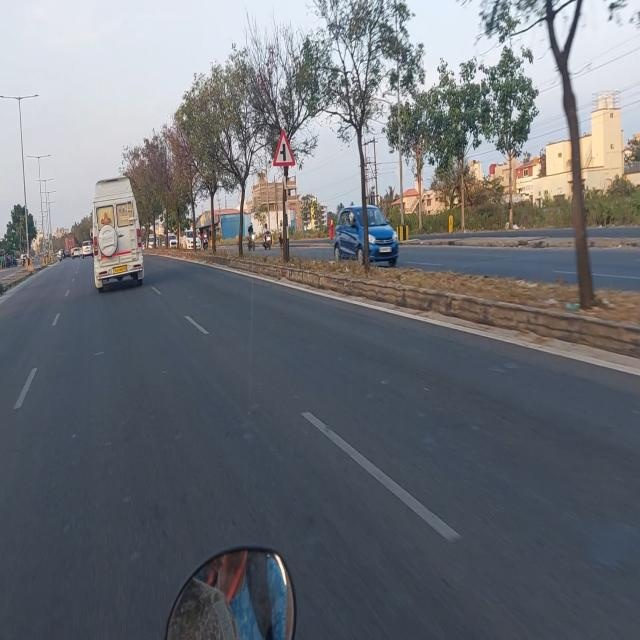bien_nguy_hiem: (274, 128, 294, 170)
